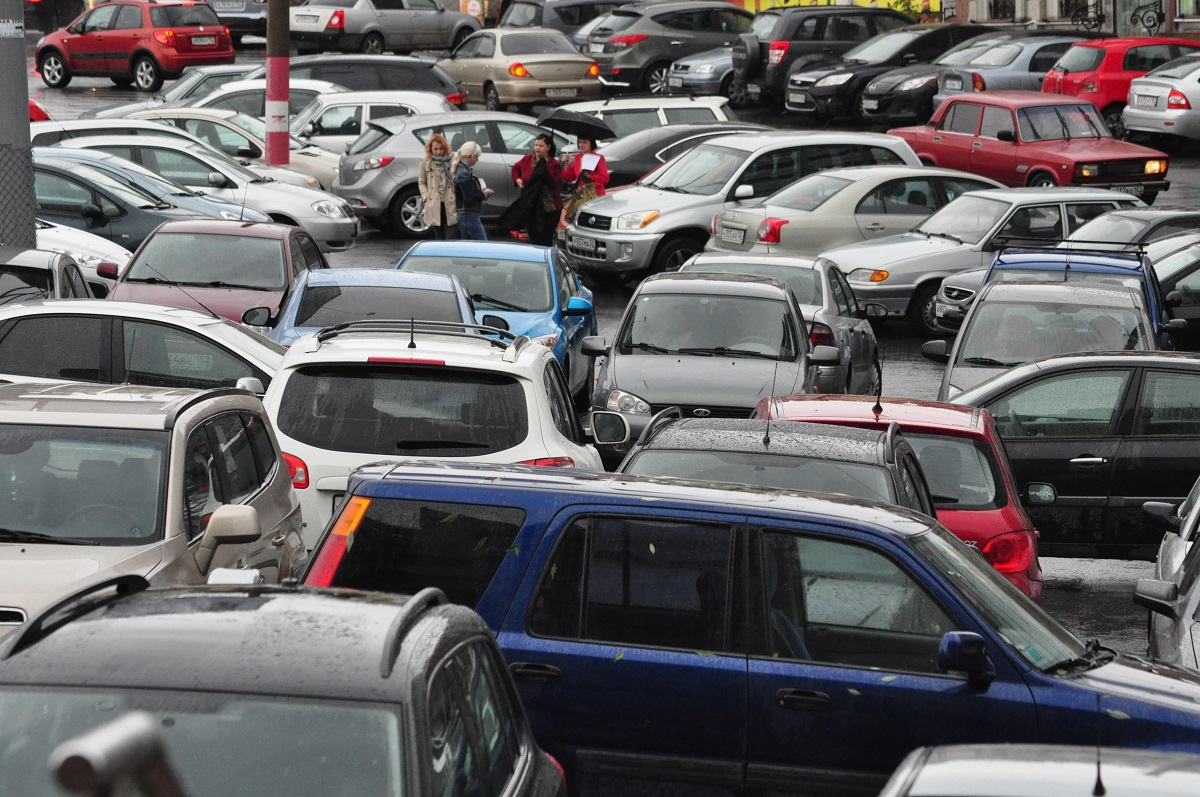Car: (205, 460, 1200, 797), (0, 575, 567, 797), (262, 318, 630, 559), (0, 383, 307, 637), (748, 394, 1058, 606), (565, 131, 924, 289), (943, 350, 1200, 563), (581, 271, 841, 467), (818, 187, 1144, 335), (51, 136, 362, 253), (394, 239, 598, 413), (615, 407, 935, 516), (886, 90, 1171, 206), (678, 251, 888, 395), (0, 298, 288, 400), (921, 281, 1161, 403), (329, 110, 550, 239), (705, 165, 1008, 255), (96, 218, 331, 334), (980, 236, 1188, 352), (862, 30, 1116, 124), (785, 24, 1015, 121), (241, 268, 510, 349), (30, 118, 322, 190), (116, 107, 340, 192), (732, 5, 913, 109), (35, 0, 235, 92), (31, 148, 274, 222), (32, 157, 215, 253), (555, 147, 691, 275), (880, 744, 1200, 797), (1041, 37, 1200, 142), (587, 0, 755, 93), (437, 27, 601, 111), (596, 120, 796, 188), (49, 711, 188, 797), (933, 36, 1087, 113), (289, 0, 482, 56), (289, 51, 468, 111), (289, 91, 460, 152), (77, 63, 264, 118), (564, 92, 742, 146), (1133, 530, 1200, 670), (181, 79, 354, 129), (35, 216, 134, 299), (1121, 52, 1200, 141), (1141, 475, 1200, 579), (0, 247, 95, 305), (495, 0, 646, 36), (1153, 240, 1200, 351), (666, 45, 750, 107), (1067, 205, 1200, 242), (932, 262, 991, 336), (206, 0, 267, 46), (23, 0, 87, 35), (568, 12, 609, 54), (1146, 229, 1200, 260), (28, 98, 53, 123), (942, 309, 965, 323)
